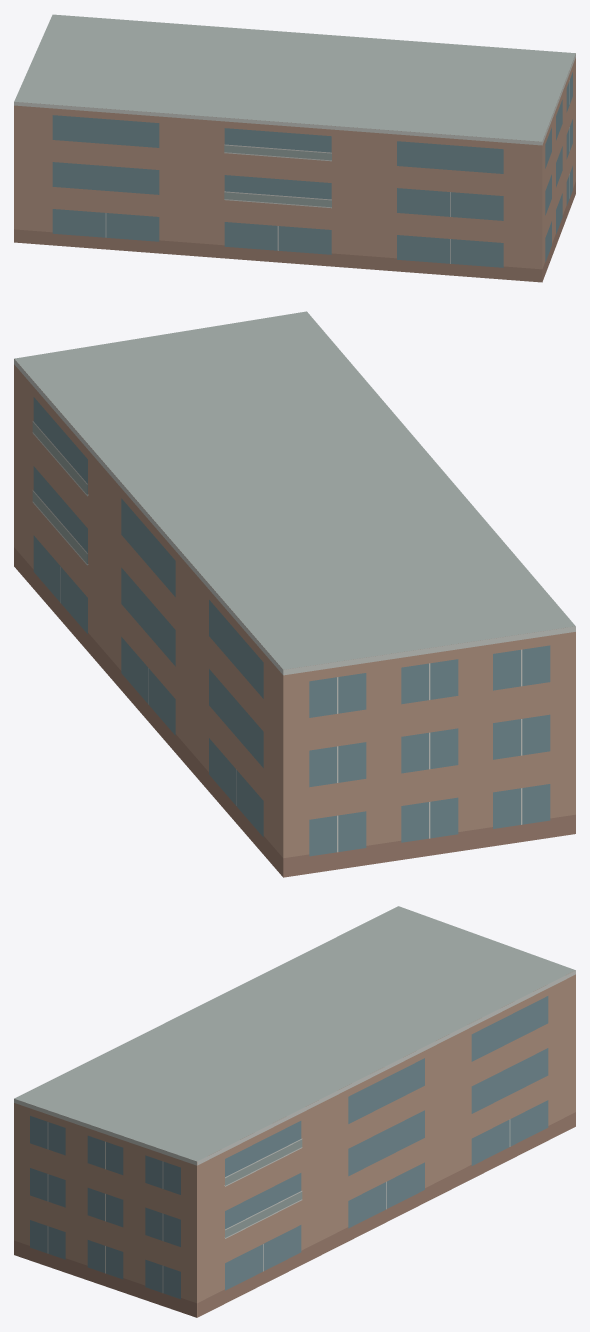
Rendered from survey-upis-32890117.glb.
3 views of the same model, one above another, from view 1: azimuth 30°, elevation 25°; view 2: azimuth 150°, elevation 25°; view 3: azimuth 270°, elevation 25° (orthographic). The views are drawn at different scales.
Visible parts, largest first — view 1: survey-upis-32890117.tmp; view 2: survey-upis-32890117.tmp; view 3: survey-upis-32890117.tmp.
Part boxes in pixels (<box>): survey-upis-32890117.tmp: <box>14,14,575,282</box>; survey-upis-32890117.tmp: <box>14,311,575,877</box>; survey-upis-32890117.tmp: <box>14,906,575,1317</box>.
Size of the model in its own units: 32.08 by 9.15 by 29.81.
